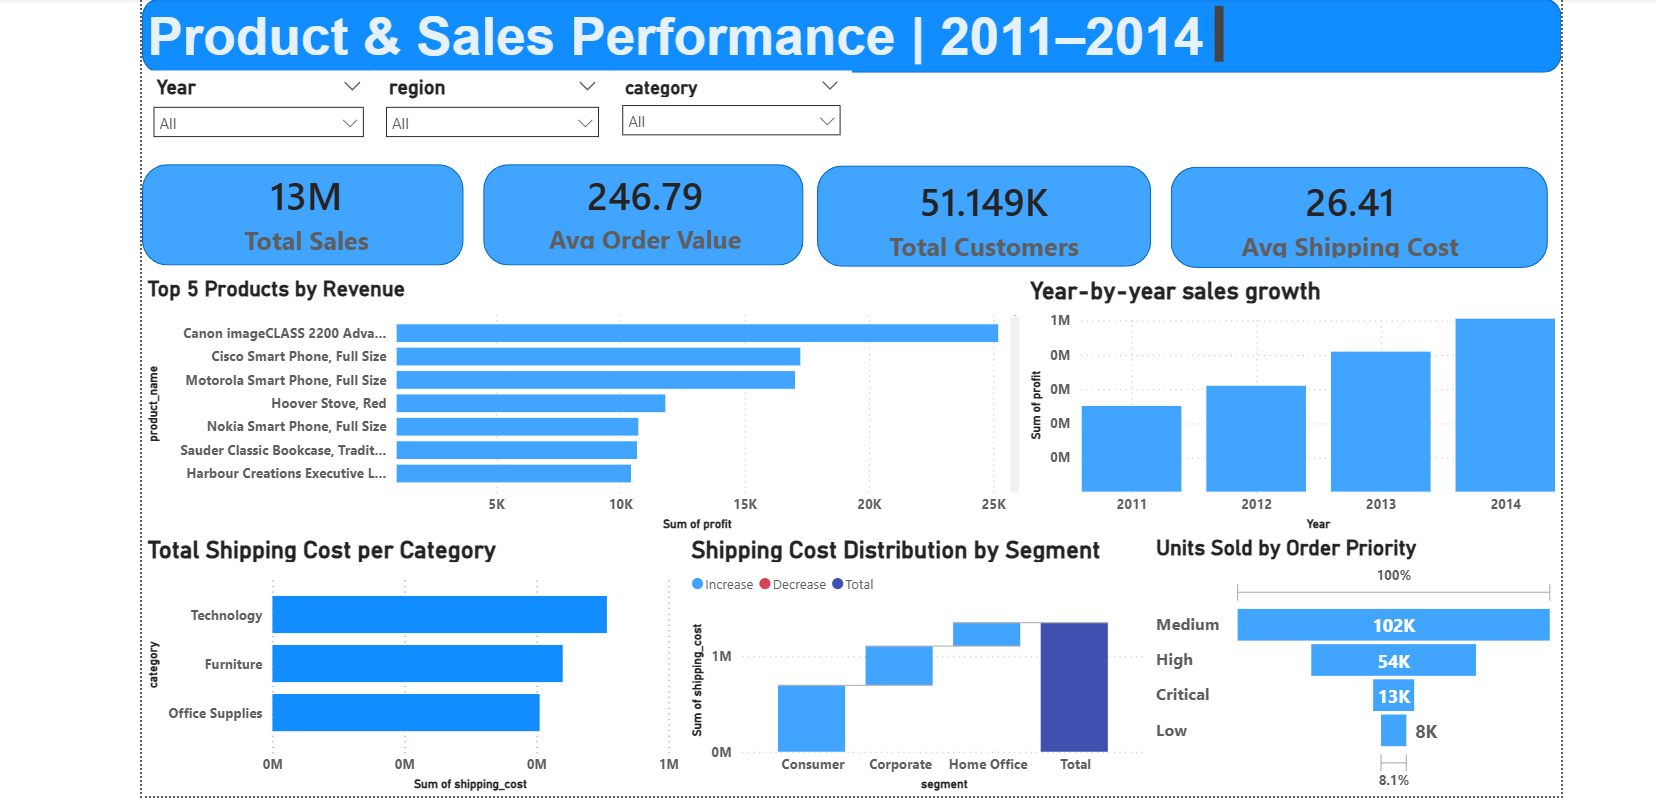

The dashboard page shown, as its layout file describes it:
{"tool":"powerbi","page":{"name":"Product & Sales Performance | 2011–2014","canvas":[1280,720],"ordinal":1},"visuals":[{"type":"shape","box":[0,0,1280,67.5],"z":0},{"type":"textbox","box":[0,2.5,980,62.5],"z":1000},{"type":"slicer","fields":{"Values":["Super store Analysis.order_date.Variation.Date Hierarchy.Year"]},"box":[0,65,210,68.8],"z":2000},{"type":"slicer","fields":{"Values":["Super store Analysis.category"]},"box":[422.5,65,217.5,66.2],"z":3000},{"type":"slicer","fields":{"Values":["Super store Analysis.region"]},"box":[210,65,212.5,68.8],"z":4000},{"type":"shape","box":[0,150,290,91.2],"z":5000},{"type":"shape","box":[307.5,150,288.8,91.2],"z":6000},{"type":"shape","box":[608.8,151.2,301.2,91.2],"z":7000},{"type":"shape","box":[927.5,152.5,340,91.2],"z":8000},{"type":"cardVisual","fields":{"Data":["Sum(Super store Analysis.sales)"]},"box":[6.2,140,283.8,106.2],"z":9000},{"type":"cardVisual","fields":{"Data":["Avg(Super store Analysis.sales)"]},"box":[312.5,142.5,283.8,101.2],"z":10000},{"type":"cardVisual","fields":{"Data":["CountNonNull(Super store Analysis.customer_name)"]},"box":[608.8,145,301.2,106.2],"z":11000},{"type":"cardVisual","fields":{"Data":["Avg(Super store Analysis.shipping_cost)"]},"box":[947.5,145,283.8,106.2],"z":12000},{"type":"clusteredBarChart","title":"Top 5 Products by Revenue ","fields":{"Category":["Super store Analysis.product_name"],"Y":["Sum(Super store Analysis.profit)"]},"box":[0,251.2,796.2,233.8],"z":13000},{"type":"clusteredColumnChart","title":"Year-by-year sales growth","fields":{"Category":["Super store Analysis.order_date.Variation.Date Hierarchy.Year"],"Y":["Sum(Super store Analysis.profit)"]},"box":[796.2,251.2,483.8,233.8],"z":14000},{"type":"clusteredBarChart","title":"Total Shipping Cost per Category","fields":{"Y":["Sum(Super store Analysis.shipping_cost)"],"Category":["Super store Analysis.category"]},"box":[0,485,490,235],"z":15000},{"type":"waterfallChart","title":"Shipping Cost Distribution by Segment","fields":{"Category":["Super store Analysis.segment"],"Y":["Sum(Super store Analysis.shipping_cost)"]},"box":[490,485,420,235],"z":16000},{"type":"funnel","title":"Units Sold by Order Priority","fields":{"Category":["Super store Analysis.order_priority"],"Y":["Sum(Super store Analysis.quantity)"]},"box":[910,485,370,235],"z":17000}]}

Visuals, with their boxes on the page's 1280x720 design canvas (x1, y1, x2, y2). These are canvas units, not pixel positions in the 1656x805 screenshot, which may show the page scaled, cropped or inside an application window:
shape: 0:0:1280:68
textbox: 0:2:980:65
slicer - Super store Analysis.order_date.Variation.Date Hierarchy.Year: 0:65:210:134
slicer - Super store Analysis.category: 422:65:640:131
slicer - Super store Analysis.region: 210:65:422:134
shape: 0:150:290:241
shape: 308:150:596:241
shape: 609:151:910:242
shape: 928:152:1268:244
cardVisual - Sum(Super store Analysis.sales): 6:140:290:246
cardVisual - Avg(Super store Analysis.sales): 312:142:596:244
cardVisual - CountNonNull(Super store Analysis.customer_name): 609:145:910:251
cardVisual - Avg(Super store Analysis.shipping_cost): 948:145:1231:251
"Top 5 Products by Revenue " clusteredBarChart: 0:251:796:485
"Year-by-year sales growth" clusteredColumnChart: 796:251:1280:485
"Total Shipping Cost per Category" clusteredBarChart: 0:485:490:720
"Shipping Cost Distribution by Segment" waterfallChart: 490:485:910:720
"Units Sold by Order Priority" funnel: 910:485:1280:720
